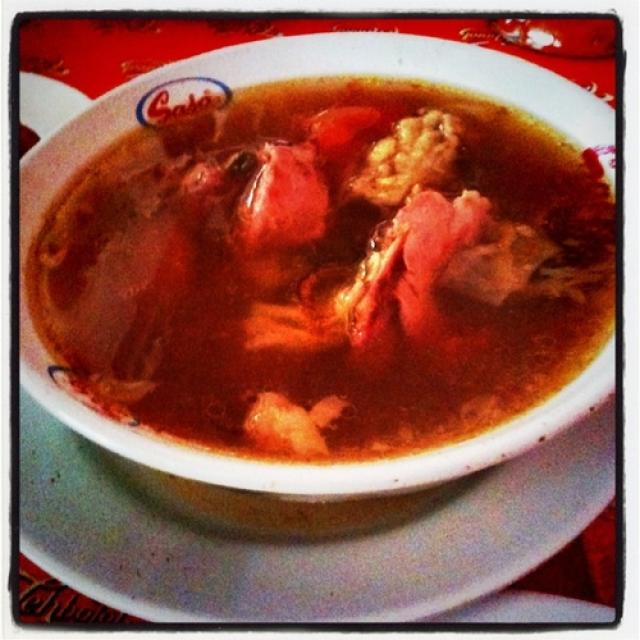汤锅炖物: (33, 23, 594, 597)
